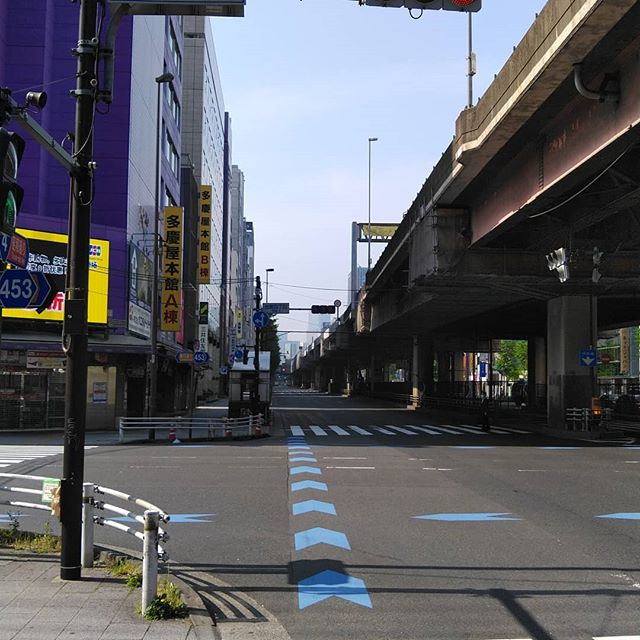bridge: (296, 1, 640, 380)
building: (1, 1, 187, 412), (193, 45, 247, 394)
crosswalk: (291, 418, 525, 446)
sky: (191, 1, 461, 298)
street: (8, 441, 640, 640)
